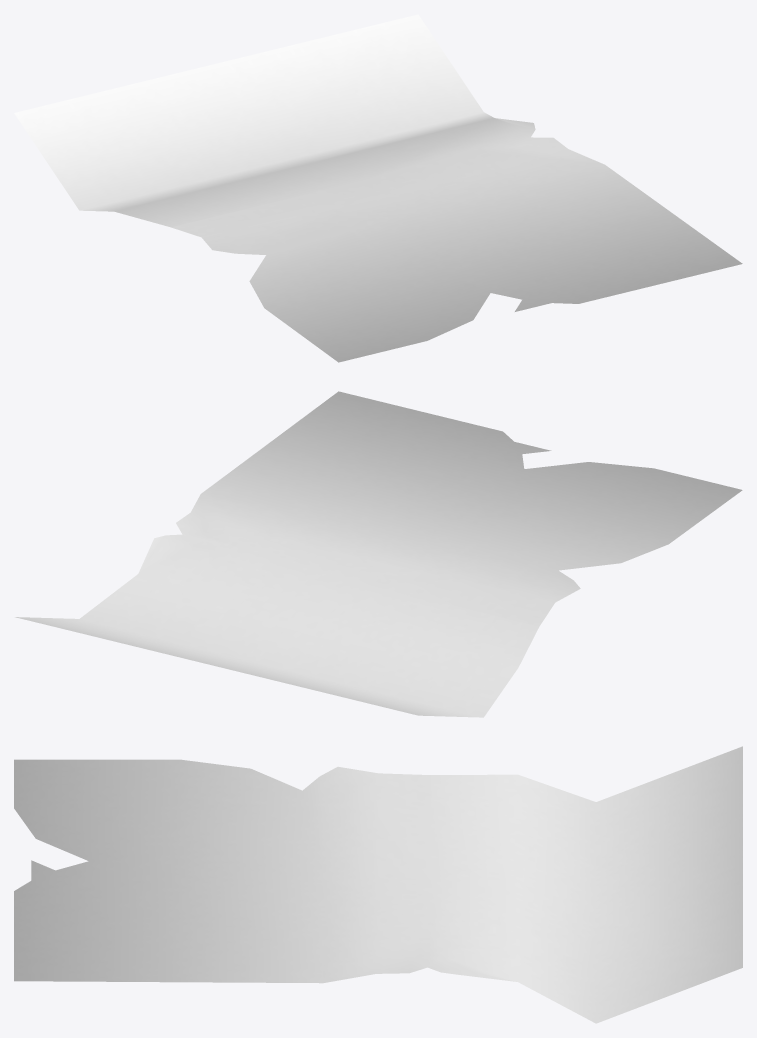
The model's file is Props_TissueToilet_03.fbx.
3 renders of one model, top to bottom at view 1: azimuth 30°, elevation 25°; view 2: azimuth 150°, elevation 25°; view 3: azimuth 270°, elevation 25°, orthographic. The views are drawn at different scales.
Visible parts, largest first — view 1: Props_TissueToilet_03; view 2: Props_TissueToilet_03; view 3: Props_TissueToilet_03.
Boxes of the visible parts, x1,y1,x2,y2 form: Props_TissueToilet_03: (14,14,742,362); Props_TissueToilet_03: (15,391,742,717); Props_TissueToilet_03: (14,746,742,1023).
Bounding box in the file's own units: 100 × 11.77 × 139.
